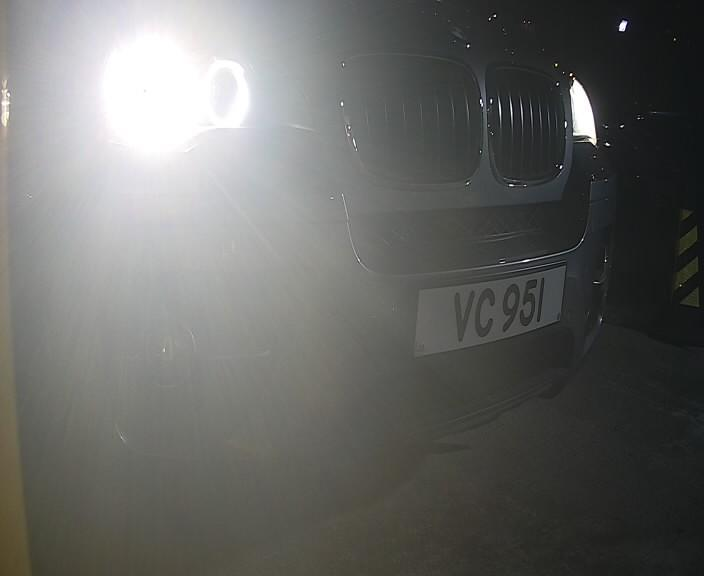privatecar: (35, 1, 635, 471)
